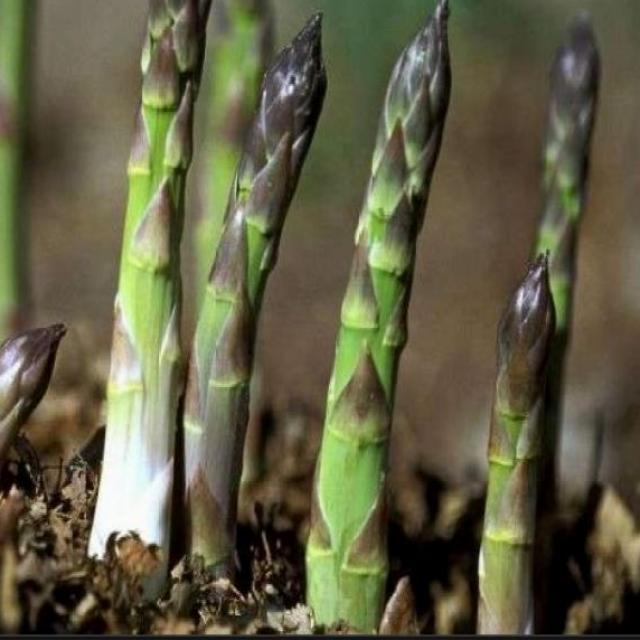aspargus: (310, 0, 453, 632), (174, 15, 326, 559), (475, 246, 559, 640)
